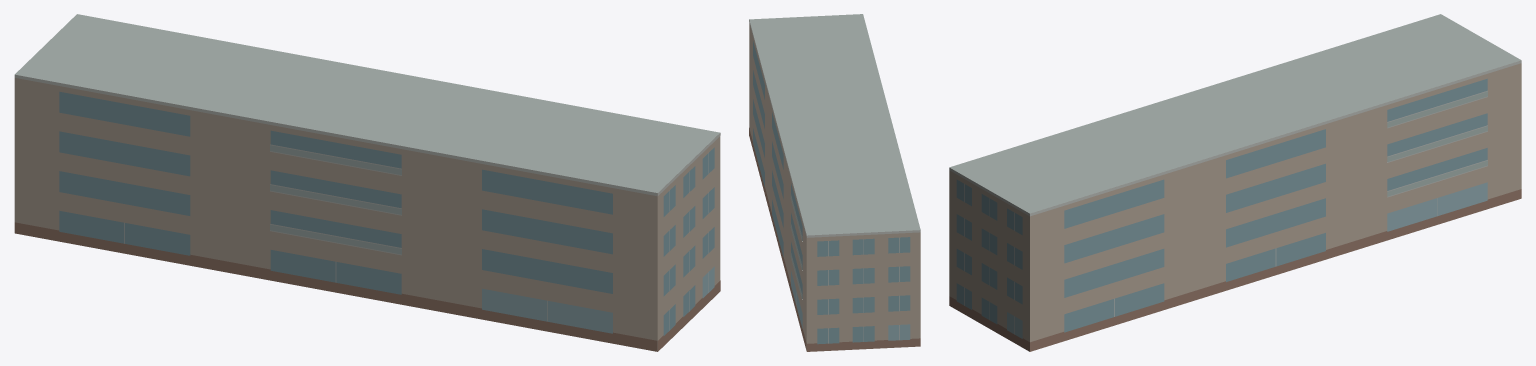
Rendered from residential-26006324-ea80-48a4-9a0b-c93e7bfa3caa.glb.
3 renders of one model, left to right at view 1: azimuth 30°, elevation 25°; view 2: azimuth 150°, elevation 25°; view 3: azimuth 270°, elevation 25°, orthographic. The views are drawn at different scales.
Visible parts, largest first — view 1: residential-26006324-ea80-48a4-9a0b-c93e7bfa3caa.tmp; view 2: residential-26006324-ea80-48a4-9a0b-c93e7bfa3caa.tmp; view 3: residential-26006324-ea80-48a4-9a0b-c93e7bfa3caa.tmp.
Part boxes in pixels (x1,y1,x2,y2): residential-26006324-ea80-48a4-9a0b-c93e7bfa3caa.tmp: [14, 14, 720, 351]; residential-26006324-ea80-48a4-9a0b-c93e7bfa3caa.tmp: [749, 14, 920, 351]; residential-26006324-ea80-48a4-9a0b-c93e7bfa3caa.tmp: [949, 14, 1521, 351].
Bounding box in the file's own units: 37.79 × 12.2 × 45.8.
